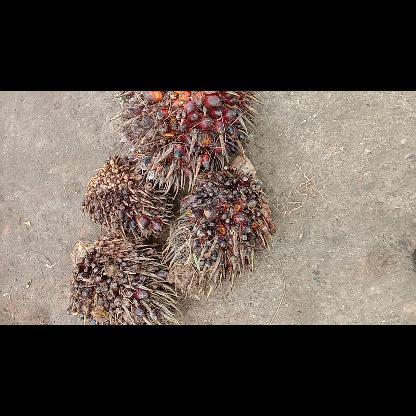TBS abnormal: (166, 154, 274, 296), (69, 240, 175, 324), (81, 154, 171, 238)
TBS masak: (119, 92, 250, 184)
